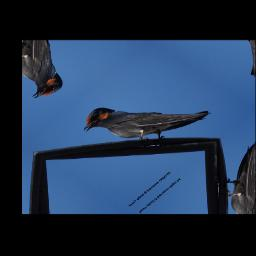Swallow: (76, 68, 212, 169)
